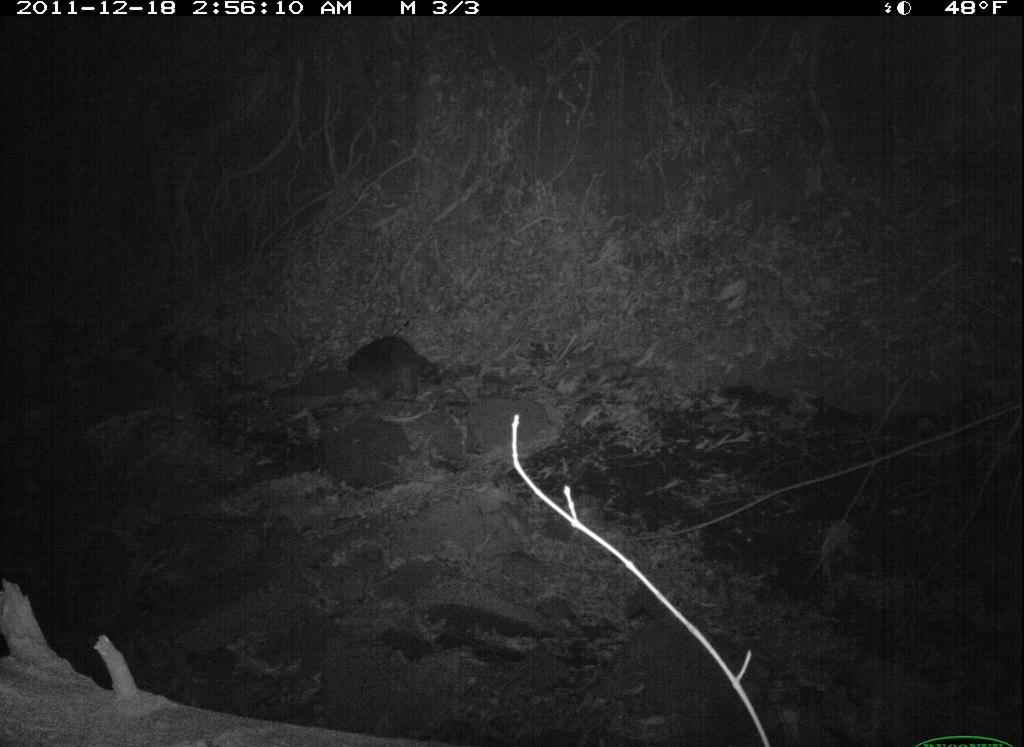raccoon: (330, 329, 454, 408)
